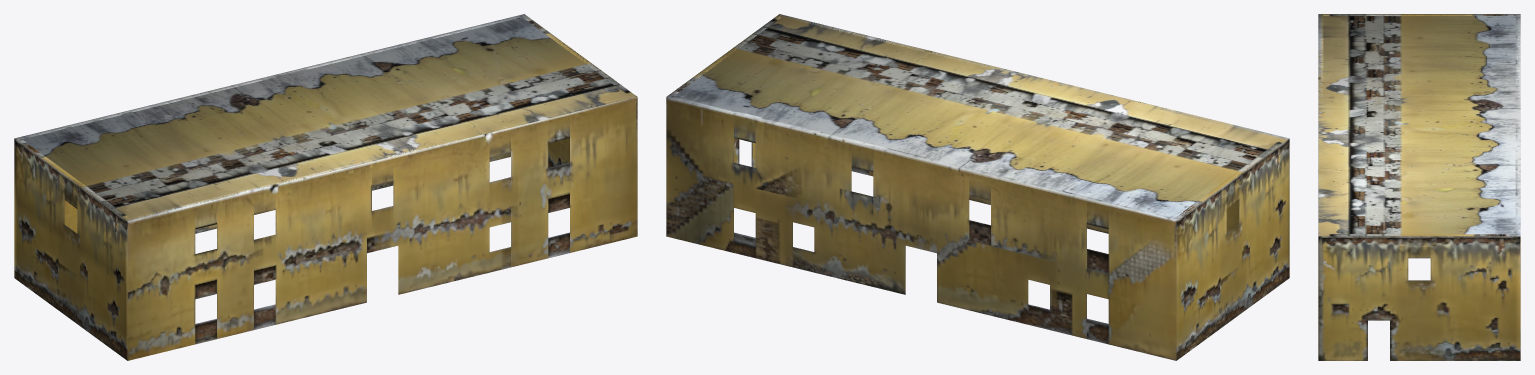
The model's file is skin_railway_0_-16.glb.
The picture shows the model from 3 angles, left to right: view 1: azimuth 30°, elevation 25°; view 2: azimuth 150°, elevation 25°; view 3: azimuth 270°, elevation 25°; orthographic projection. The views are drawn at different scales.
Parts seen in each view (by area): view 1: railway_0_-16; view 2: railway_0_-16; view 3: railway_0_-16.
Boxes of the visible parts, x1=… form: railway_0_-16: x1=14, y1=14, x2=637, y2=360; railway_0_-16: x1=666, y1=14, x2=1289, y2=360; railway_0_-16: x1=1318, y1=14, x2=1520, y2=360.
Size of the model in its own units: 26 by 6.8 by 10.
Materials: 1 (1 with a texture image).
